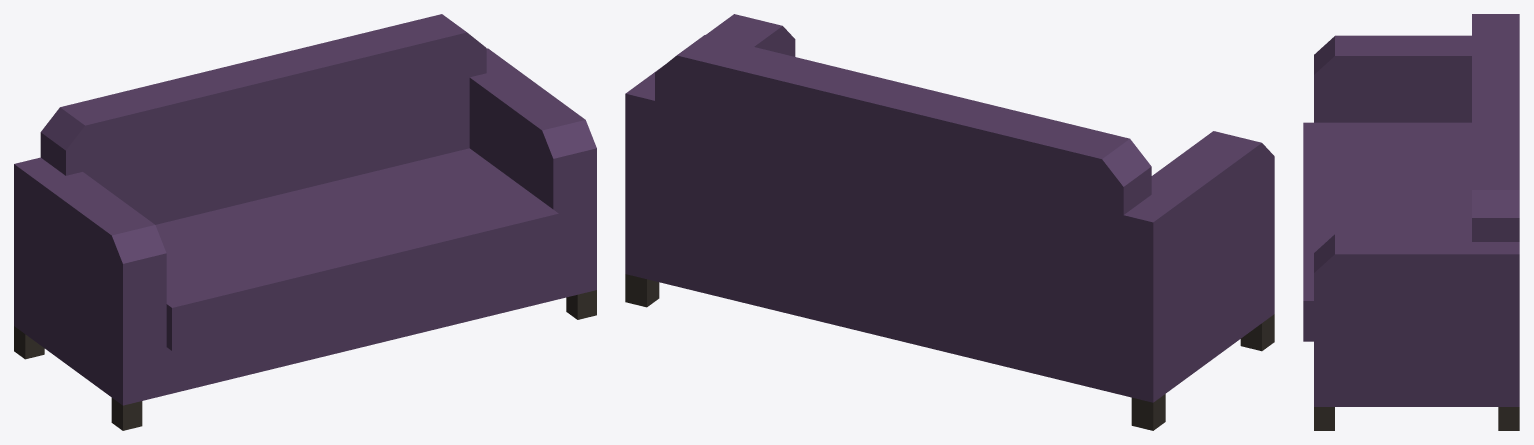
The model's file is sofa.glb.
The picture shows the model from 3 angles, left to right: view 1: azimuth 30°, elevation 25°; view 2: azimuth 150°, elevation 25°; view 3: azimuth 270°, elevation 25°; orthographic projection. The views are drawn at different scales.
Parts seen in each view (by area): view 1: sofa; view 2: sofa; view 3: sofa.
Boxes of the visible parts, x1=… form: sofa: x1=14, y1=14, x2=596, y2=430; sofa: x1=625, y1=14, x2=1274, y2=430; sofa: x1=1303, y1=14, x2=1519, y2=430.
Size of the model in its own units: 0.98 by 0.46 by 0.41.
